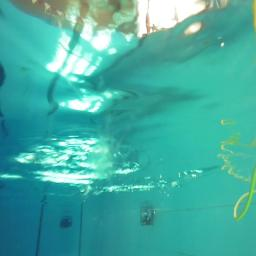Full: (60, 220, 72, 228)
Side: (60, 217, 73, 229)
front: (140, 211, 154, 227), (140, 211, 155, 225)
